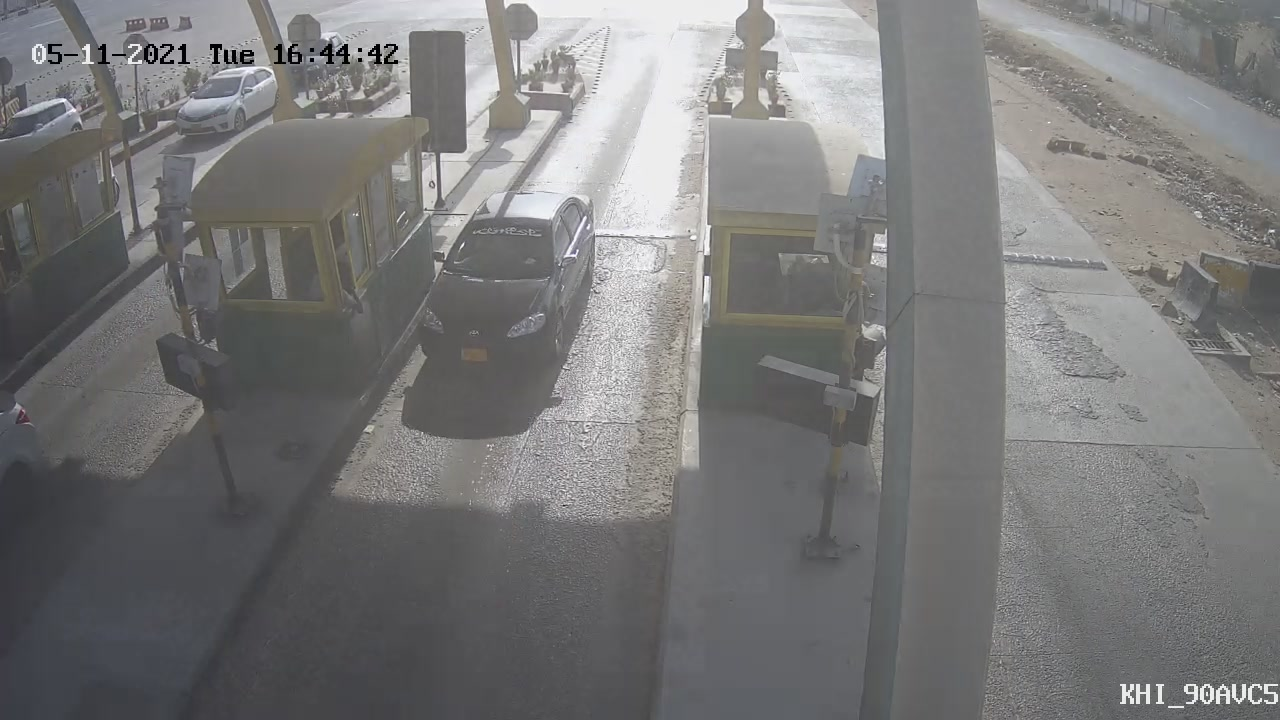F1: (396, 170, 616, 401)
